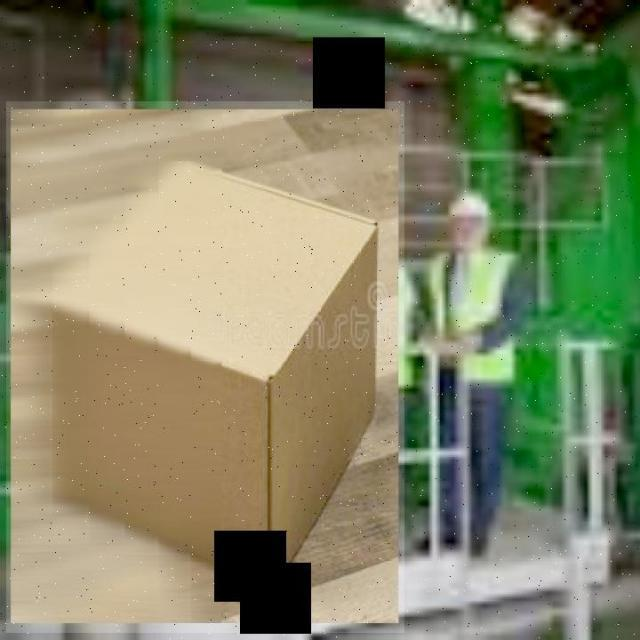box: (7, 101, 404, 633)
